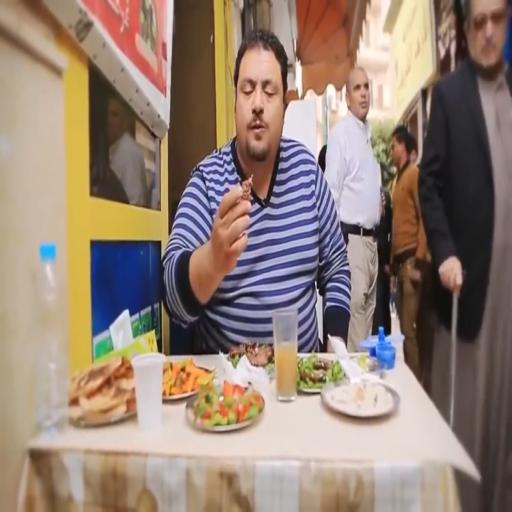nao-violencia: (361, 115, 428, 369)
